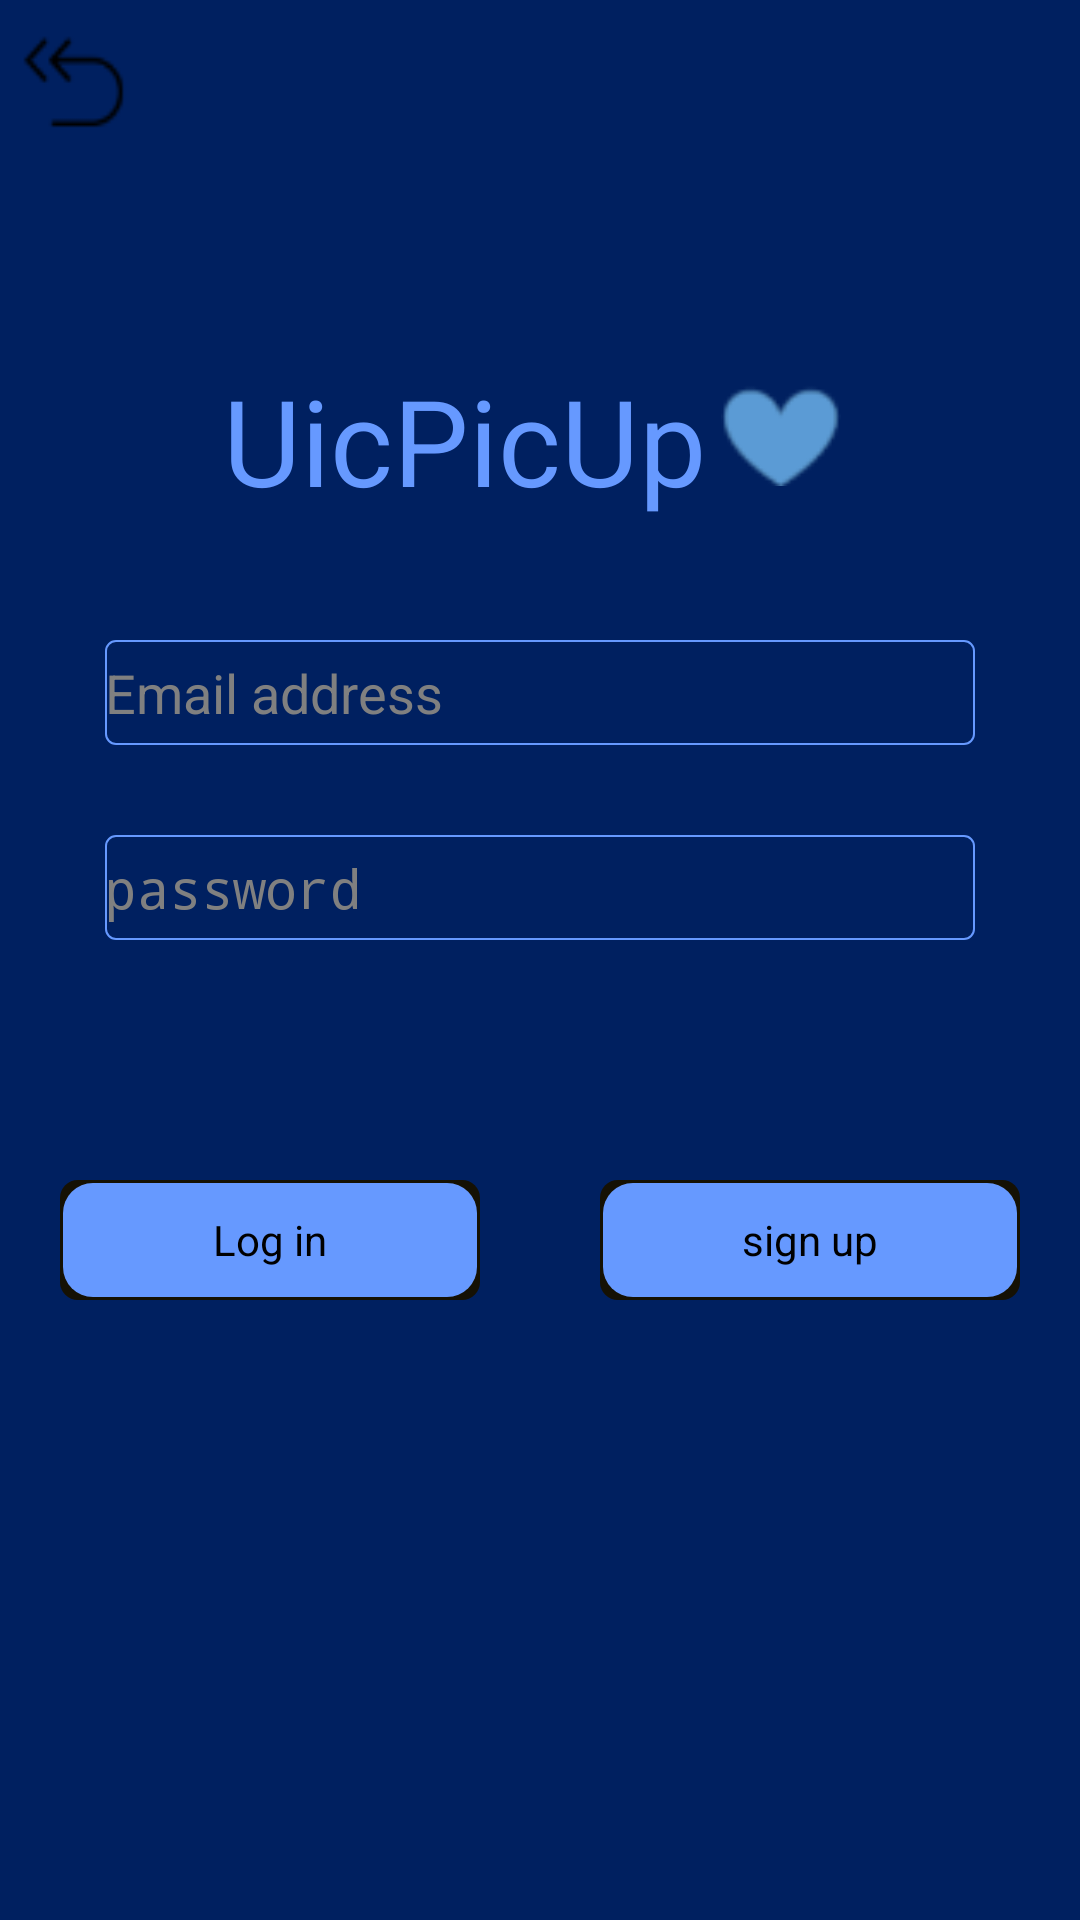

Icon bounding boxes for this 1080w x 1920h phone screenshot, format (x1, y1, x2, y2):
back: (24, 38, 123, 127)
love: (723, 389, 839, 486)
